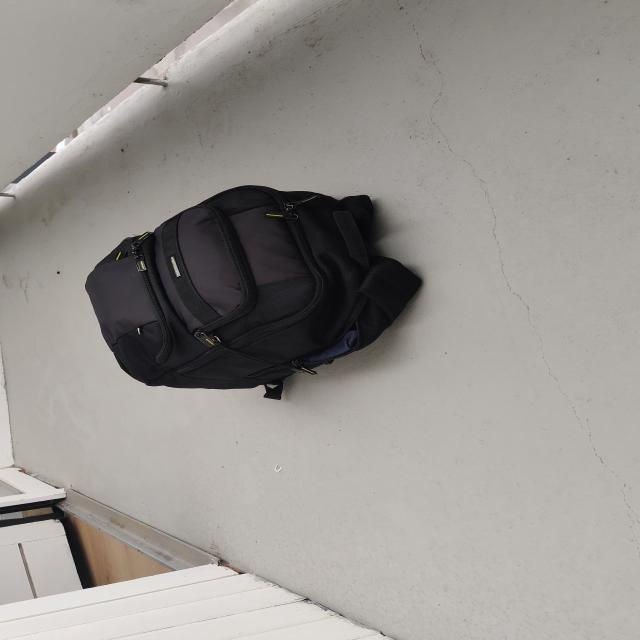backpack: (77, 178, 430, 398)
